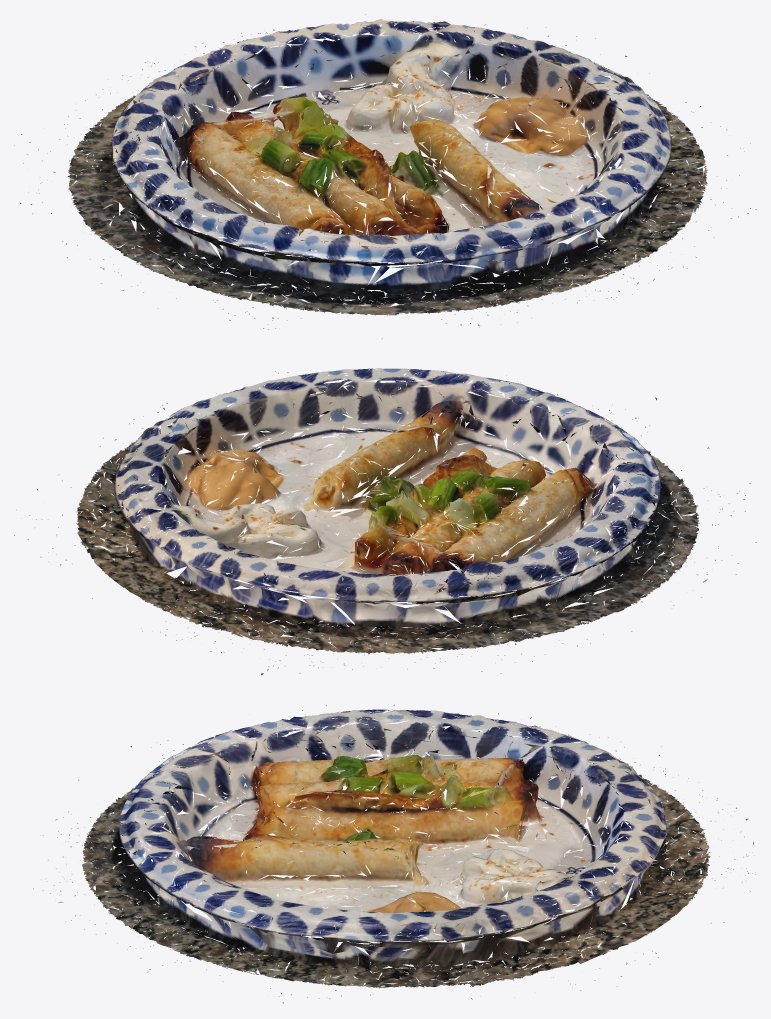
Rendered from Bourak Fixed 2.glb.
3 renders of one model, top to bottom at view 1: azimuth 30°, elevation 25°; view 2: azimuth 150°, elevation 25°; view 3: azimuth 270°, elevation 25°, orthographic. The views are drawn at different scales.
Parts seen in each view (by area): view 1: Object_6; view 2: Object_6; view 3: Object_6.
Boxes of the visible parts, box(x1,y1,x2,y2) form: Object_6: box(14, 14, 756, 338); Object_6: box(14, 368, 756, 675); Object_6: box(33, 704, 755, 1003).
Size of the model in its own units: 0.2158 by 0.0247 by 0.2247.
Materials: 1 (1 with a texture image).
